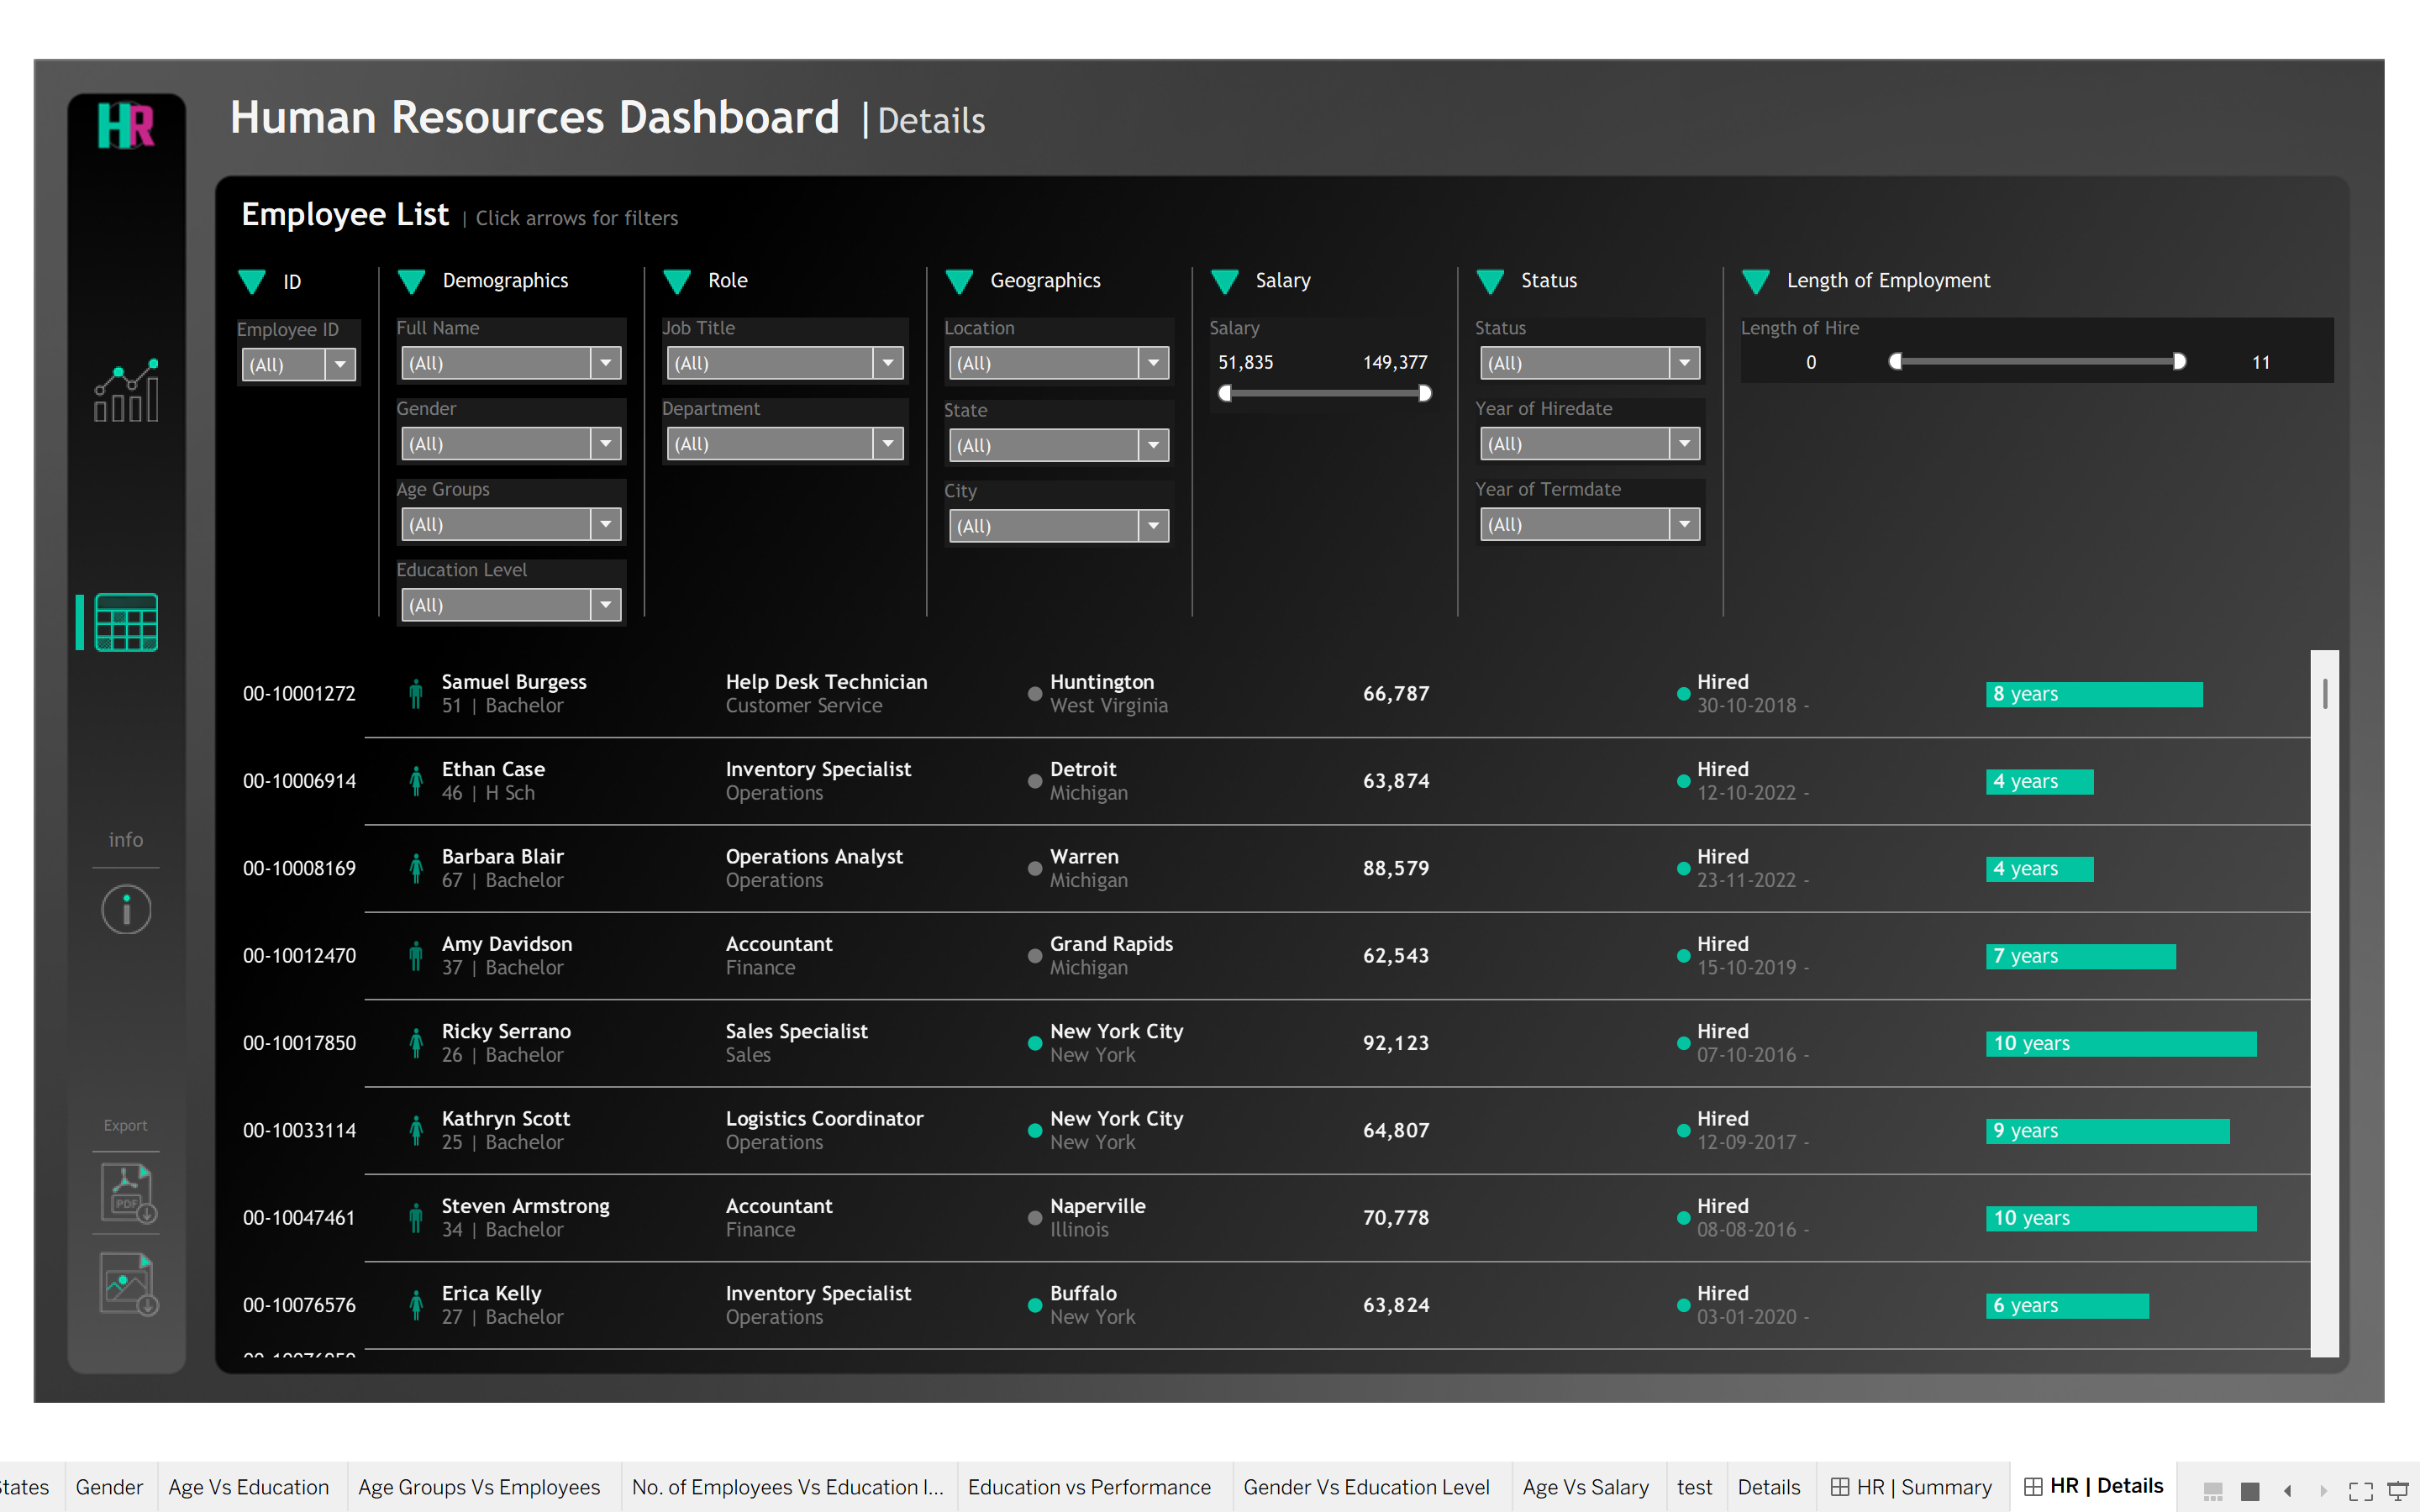

This screenshot's page, from the dashboard's own definition file:
{"tool":"tableau","page":{"name":"HR | Details","canvas":[1400,800],"ordinal":0},"visuals":[{"type":"image","param":"Image/background dashbaord details.png","box":[0,0,1400,800]},{"type":"text","box":[110,0,673,70]},{"type":"blank","box":[783,0,597,70]},{"type":"text","box":[92,13,1298,218]},{"type":"image","param":"Image/Logo.png","box":[20,20,70,38]},{"type":"blank","box":[20,58,70,110]},{"type":"text","box":[117,77,1256,37]},{"type":"dashboard-object","box":[117,114,25,37]},{"type":"text","box":[142,114,57,37]},{"type":"blank","box":[199,114,13,228]},{"type":"dashboard-object","box":[212,114,25,36]},{"type":"text","box":[237,114,120,36]},{"type":"blank","box":[357,114,13,228]},{"type":"dashboard-object","box":[370,114,25,36]},{"type":"text","box":[395,114,126,36]},{"type":"blank","box":[525,114,13,228]},{"type":"dashboard-object","box":[538,114,25,36]},{"type":"text","box":[563,114,120,36]},{"type":"blank","box":[683,114,13,228]},{"type":"dashboard-object","box":[696,114,25,36]},{"type":"text","box":[720.9,114,120,36]},{"type":"blank","box":[841,114,13,228]},{"type":"dashboard-object","box":[853.9,114,25,36]},{"type":"text","box":[878.9,114,120,36]},{"type":"blank","box":[998.9,114,13,228]},{"type":"dashboard-object","box":[1011.9,114,25,36]},{"type":"text","box":[1036.9,114,336.1,36]},{"type":"filter","title":"Details","param":"[federated.1ru0z8r0nqcx4818v7od20hwav44].[none:Calculation_0846406147260418:nk]","box":[212,150,145,48]},{"type":"filter","title":"Details","param":"[federated.1ru0z8r0nqcx4818v7od20hwav44].[none:Job Title:nk]","box":[370,150,155,48]},{"type":"filter","title":"Details","param":"[federated.1ru0z8r0nqcx4818v7od20hwav44].[none:Calculation_1481096908328965:nk]","box":[538,150,145,49]},{"type":"filter","title":"Details","param":"[federated.1ru0z8r0nqcx4818v7od20hwav44].[sum:Salary:qk]","box":[696,150,145,65]},{"type":"filter","title":"Details","param":"[federated.1ru0z8r0nqcx4818v7od20hwav44].[none:Calculation_0787306388230144:nk]","box":[853.9,150,145,48]},{"type":"filter","title":"Details","param":"[federated.1ru0z8r0nqcx4818v7od20hwav44].[sum:Calculation_1018479850840064:qk]","box":[1011.9,150,361.1,47]},{"type":"filter","title":"Details","param":"[federated.1ru0z8r0nqcx4818v7od20hwav44].[none:Employee_ID:nk]","box":[117,151,82,48]},{"type":"dashboard-object","box":[30,178,50,38]},{"type":"filter","title":"Details","param":"[federated.1ru0z8r0nqcx4818v7od20hwav44].[none:Gender:nk]","box":[212,198,145,48]},{"type":"filter","title":"Details","param":"[federated.1ru0z8r0nqcx4818v7od20hwav44].[none:Department:nk]","box":[370,198,155,48]},{"type":"filter","title":"Details","param":"[federated.1ru0z8r0nqcx4818v7od20hwav44].[yr:Hiredate:ok]","box":[853.9,198,145,48]},{"type":"filter","title":"Details","param":"[federated.1ru0z8r0nqcx4818v7od20hwav44].[none:State:nk]","box":[538,199,145,48]},{"type":"blank","box":[30,216,50,100]},{"type":"filter","title":"Details","param":"[federated.1ru0z8r0nqcx4818v7od20hwav44].[none:Calculation_1179556890259457:nk]","box":[212,246,145,48]},{"type":"filter","title":"Details","param":"[federated.1ru0z8r0nqcx4818v7od20hwav44].[yr:Termdate:ok]","box":[853.9,246,145,48]},{"type":"filter","title":"Details","param":"[federated.1ru0z8r0nqcx4818v7od20hwav44].[none:City:nk]","box":[538,247,145,48]},{"type":"filter","title":"Details","param":"[federated.1ru0z8r0nqcx4818v7od20hwav44].[none:Education Level:nk]","box":[212,294,145,48]},{"type":"dashboard-object","box":[30,316,50,38]},{"type":"blank","box":[25,319,5,33]},{"type":"worksheet","title":"Details","mark":"Shape","rows":["Employee_ID"],"cols":["Calculation_0846406146097153","Calculation_0846406146097153","Calculation_0846406146097153","Calculation_0846406146097153","Calculation_0846406146097153","Calculation_1018479850840064"],"box":[117,352,1256,421]},{"type":"blank","box":[30,354,50,100]},{"type":"text","box":[30,454,50,22]},{"type":"blank","box":[30,476,50,11]},{"type":"dashboard-object","box":[30,487,50,38]},{"type":"blank","box":[30,525,50,100]},{"type":"text","box":[30,625,50,20]},{"type":"blank","box":[30,645,50,11]},{"type":"dashboard-object","box":[30,656,50,38]},{"type":"blank","box":[30,694,50,11]},{"type":"dashboard-object","box":[30,705,50,48]}]}

Visuals, with their boxes on the page's 1400x800 design canvas (x1, y1, x2, y2). These are canvas units, not pixel positions in the 2420x1512 screenshot, which may show the page scaled, cropped or inside an application window:
image: region(0, 0, 1400, 800)
text: region(110, 0, 783, 70)
blank: region(783, 0, 1380, 70)
text: region(92, 13, 1390, 231)
image: region(20, 20, 90, 58)
blank: region(20, 58, 90, 168)
text: region(117, 77, 1373, 114)
dashboard-object: region(117, 114, 142, 151)
text: region(142, 114, 199, 151)
blank: region(199, 114, 212, 342)
dashboard-object: region(212, 114, 237, 150)
text: region(237, 114, 357, 150)
blank: region(357, 114, 370, 342)
dashboard-object: region(370, 114, 395, 150)
text: region(395, 114, 521, 150)
blank: region(525, 114, 538, 342)
dashboard-object: region(538, 114, 563, 150)
text: region(563, 114, 683, 150)
blank: region(683, 114, 696, 342)
dashboard-object: region(696, 114, 721, 150)
text: region(721, 114, 841, 150)
blank: region(841, 114, 854, 342)
dashboard-object: region(854, 114, 879, 150)
text: region(879, 114, 999, 150)
blank: region(999, 114, 1012, 342)
dashboard-object: region(1012, 114, 1037, 150)
text: region(1037, 114, 1373, 150)
"Details" filter: region(212, 150, 357, 198)
"Details" filter: region(370, 150, 525, 198)
"Details" filter: region(538, 150, 683, 199)
"Details" filter: region(696, 150, 841, 215)
"Details" filter: region(854, 150, 999, 198)
"Details" filter: region(1012, 150, 1373, 197)
"Details" filter: region(117, 151, 199, 199)
dashboard-object: region(30, 178, 80, 216)
"Details" filter: region(212, 198, 357, 246)
"Details" filter: region(370, 198, 525, 246)
"Details" filter: region(854, 198, 999, 246)
"Details" filter: region(538, 199, 683, 247)
blank: region(30, 216, 80, 316)
"Details" filter: region(212, 246, 357, 294)
"Details" filter: region(854, 246, 999, 294)
"Details" filter: region(538, 247, 683, 295)
"Details" filter: region(212, 294, 357, 342)
dashboard-object: region(30, 316, 80, 354)
blank: region(25, 319, 30, 352)
"Details" worksheet (Shape marks): region(117, 352, 1373, 773)
blank: region(30, 354, 80, 454)
text: region(30, 454, 80, 476)
blank: region(30, 476, 80, 487)
dashboard-object: region(30, 487, 80, 525)
blank: region(30, 525, 80, 625)
text: region(30, 625, 80, 645)
blank: region(30, 645, 80, 656)
dashboard-object: region(30, 656, 80, 694)
blank: region(30, 694, 80, 705)
dashboard-object: region(30, 705, 80, 753)
